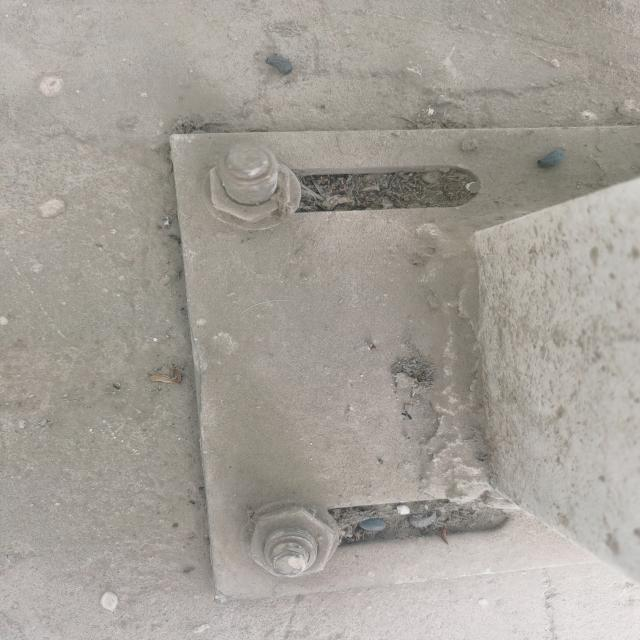bolt nut: (246, 505, 339, 581), (202, 152, 294, 226)
